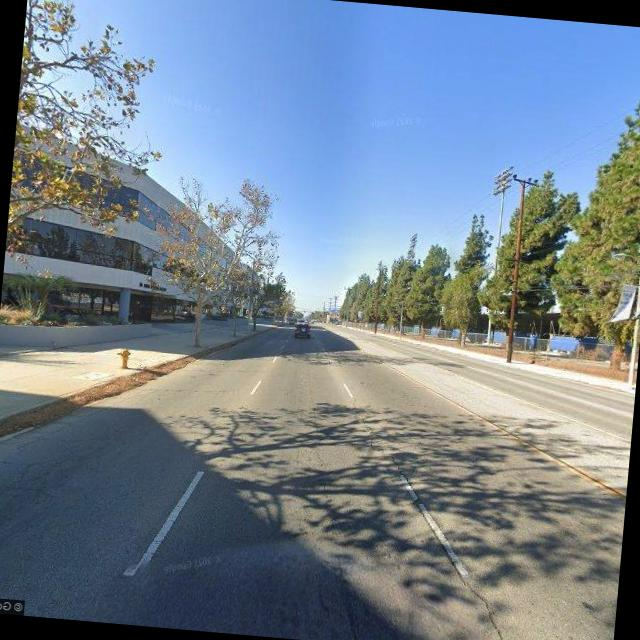crack: (326, 387, 529, 640)
